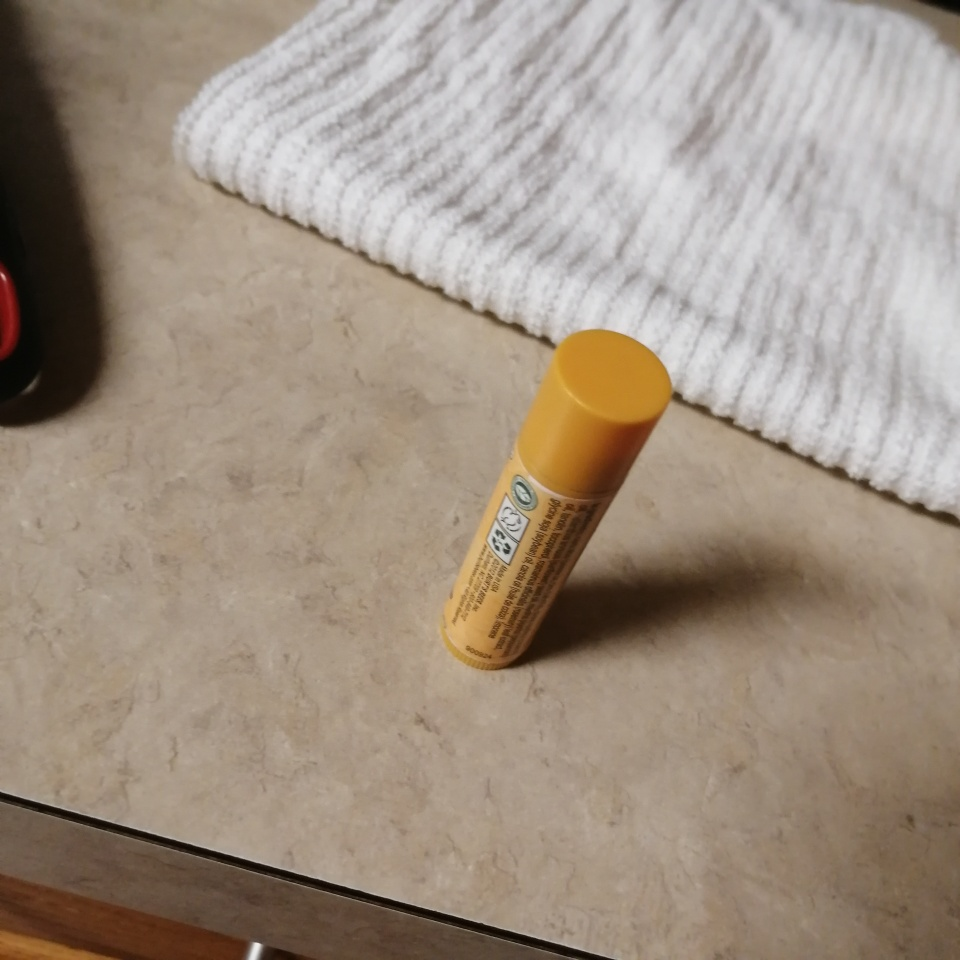chapstick: (440, 327, 674, 676)
